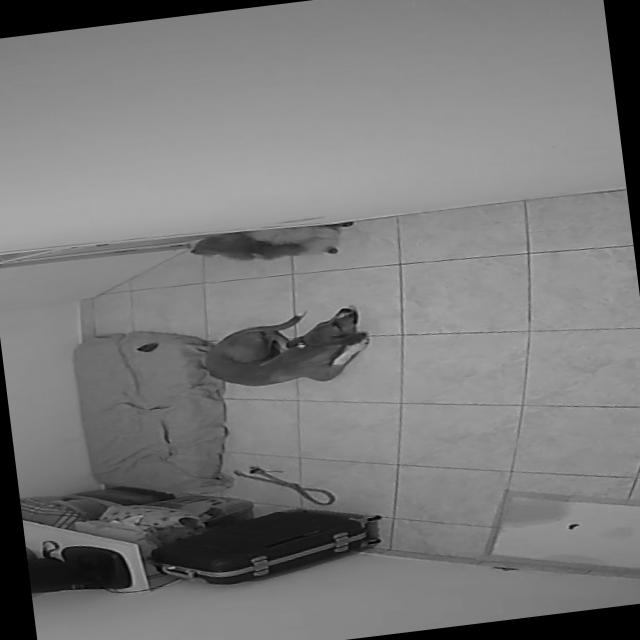laying down: (192, 298, 376, 398), (182, 214, 360, 276)
